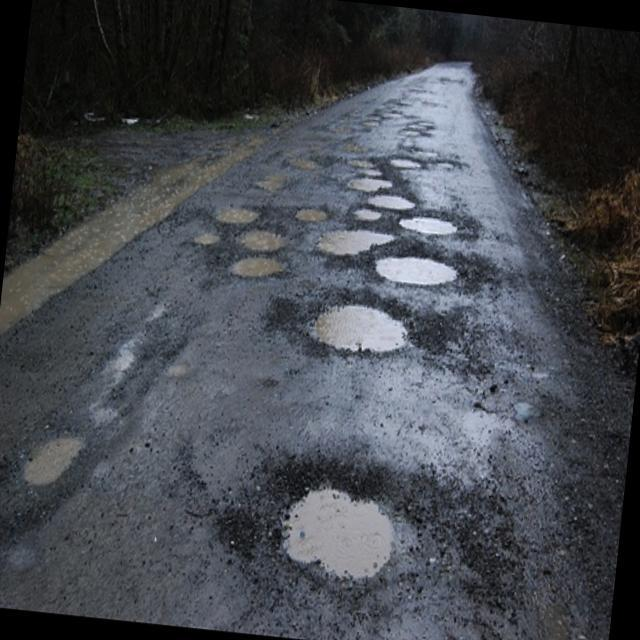Pothole: (253, 450, 423, 602), (294, 288, 438, 376), (17, 410, 108, 508), (312, 225, 402, 274), (372, 252, 474, 288), (398, 213, 474, 247), (273, 200, 344, 231), (226, 258, 286, 292), (278, 149, 339, 182), (358, 189, 428, 216), (342, 195, 390, 234), (234, 230, 300, 254), (418, 147, 468, 177), (209, 208, 273, 230), (386, 149, 434, 176), (348, 173, 400, 195), (342, 148, 381, 170), (193, 232, 224, 253), (255, 182, 291, 192)
